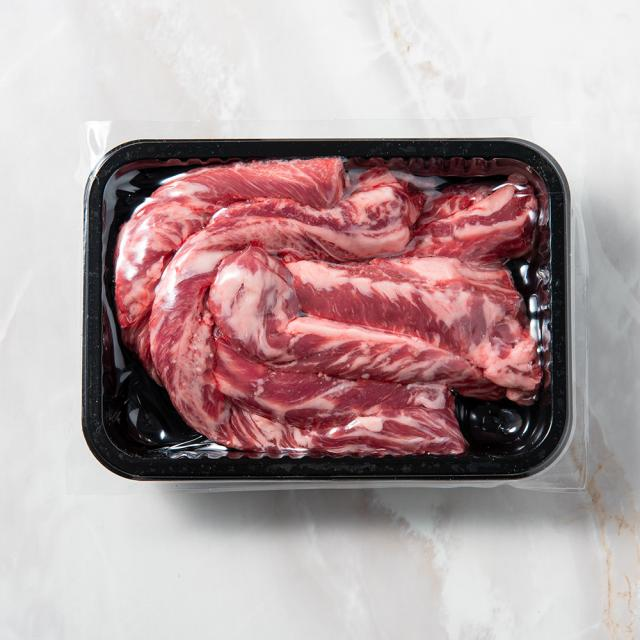beef: (186, 206, 448, 419)
